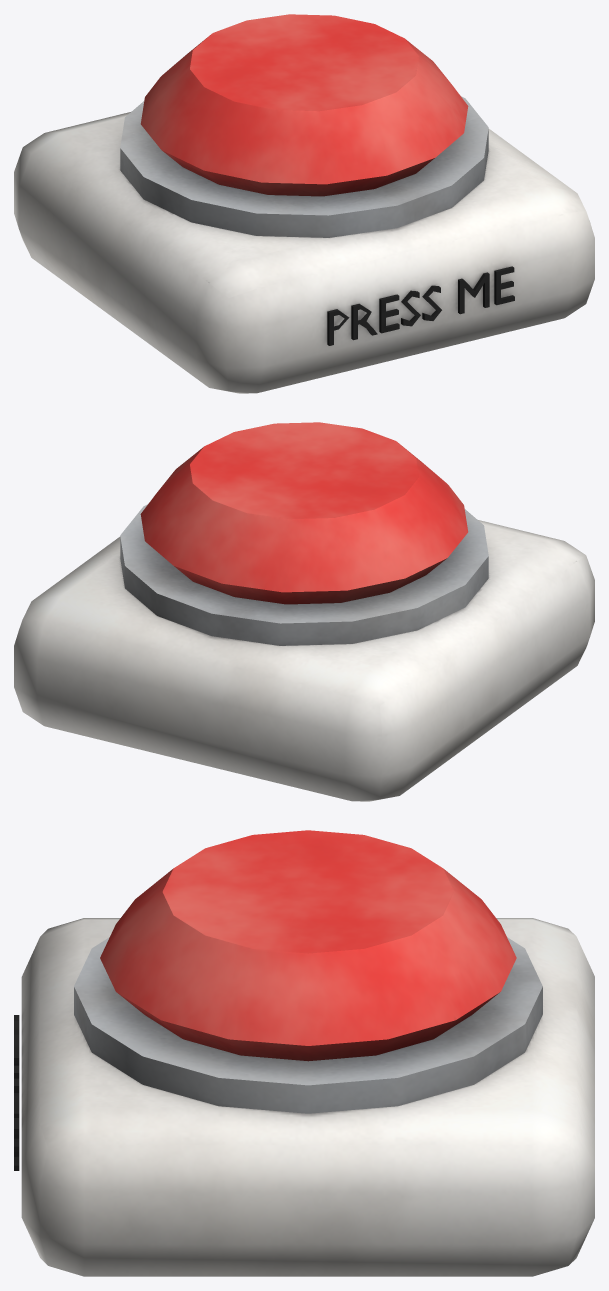
The model's file is press_button.fbx.
3 renders of one model, top to bottom at view 1: azimuth 30°, elevation 25°; view 2: azimuth 150°, elevation 25°; view 3: azimuth 270°, elevation 25°, orthographic. The views are drawn at different scales.
Parts seen in each view (by area): view 1: Body, Button; view 2: Body, Button; view 3: Body, Button.
Boxes of the visible parts, left/top/right/bottom form: Body: left=14, top=96, right=594, bottom=393; Button: left=140, top=14, right=468, bottom=196; Body: left=14, top=504, right=594, bottom=801; Button: left=140, top=422, right=468, bottom=604; Body: left=14, top=918, right=594, bottom=1276; Button: left=100, top=830, right=516, bottom=1061.
Bounding box in the file's own units: 1.1 × 0.61 × 1.12.
Materials: 1 (1 with a texture image).
